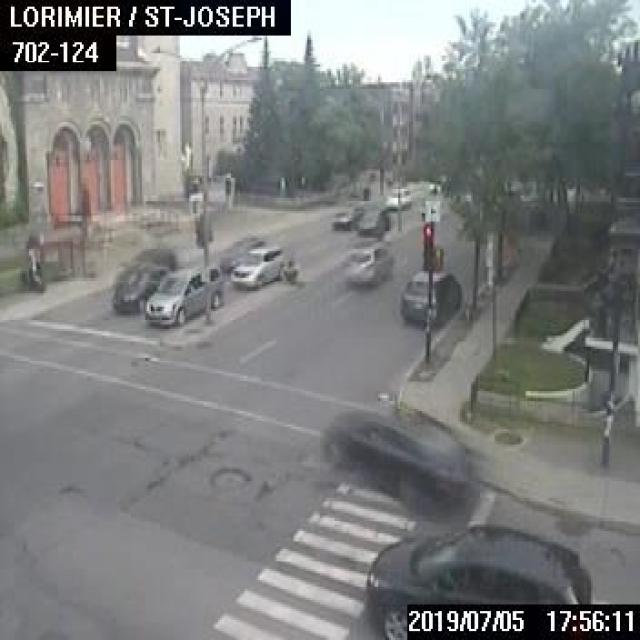vehicle: (365, 522, 591, 638), (321, 401, 480, 513), (145, 265, 220, 324), (399, 268, 460, 326), (110, 265, 170, 312), (341, 237, 392, 284), (230, 244, 283, 287), (218, 235, 262, 269), (356, 210, 387, 236), (329, 207, 360, 229), (385, 187, 410, 209)
